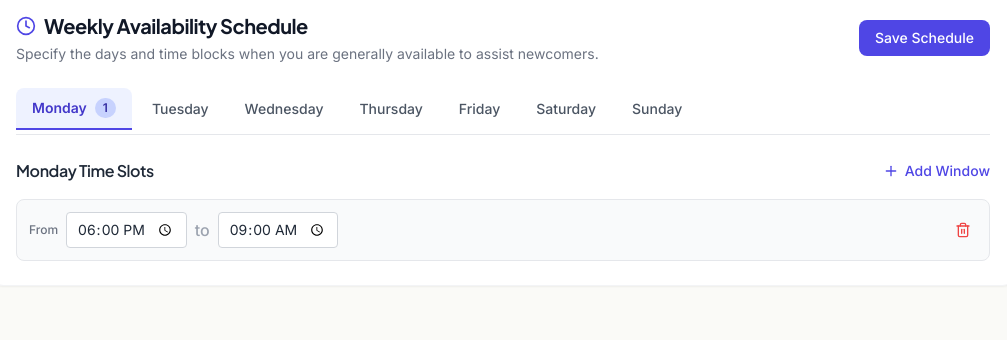
Test: Phase 14 — Sessions and Availability Frontend Components › 3. WeeklyScheduleEditor validates slot start_time before end_time before saving
Click the button "Save Schedule" at (924, 38), box x1=859 y1=20 x2=990 y2=56
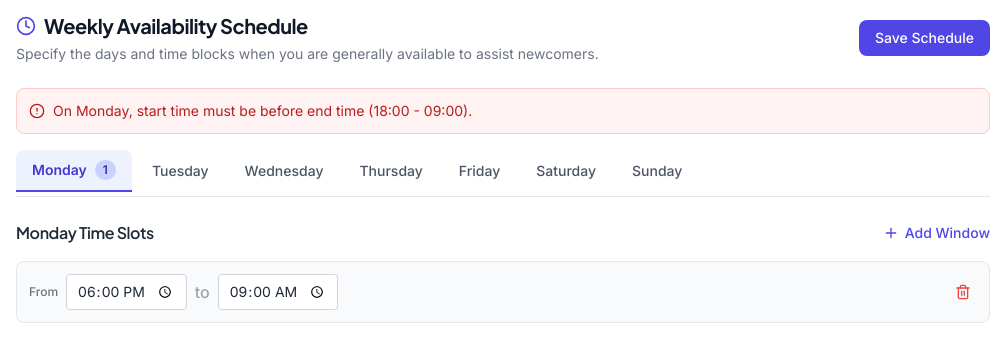
Expected: the text "start time must be before end time" is shown, x1=53 y1=102 x2=472 y2=119
